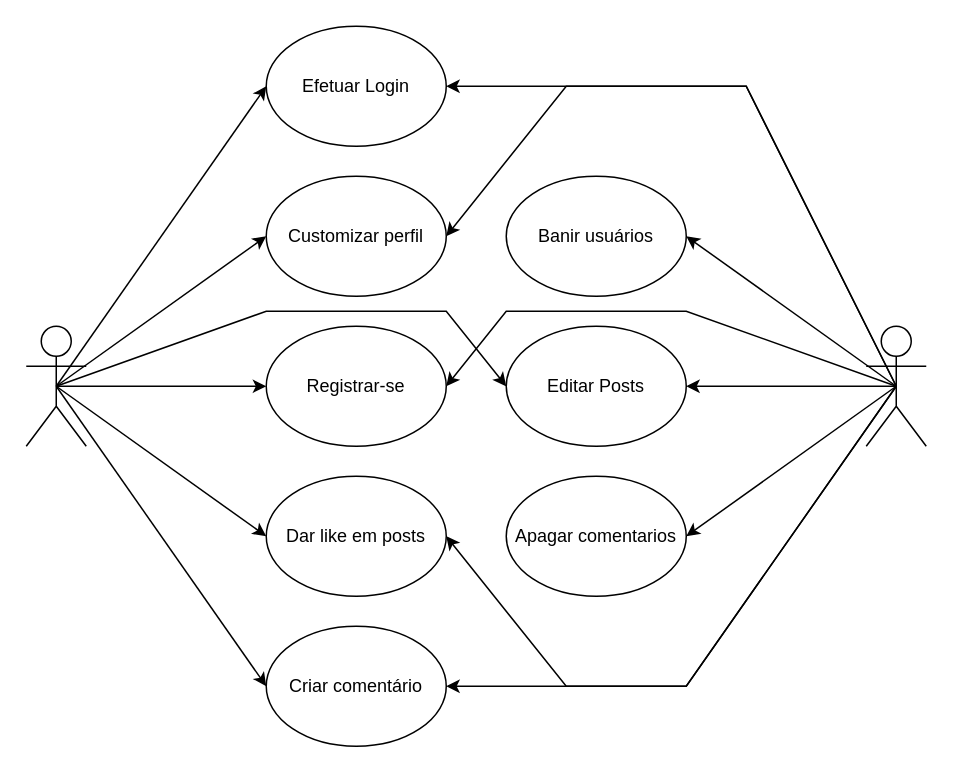
This 980x773 diagram has some shape labels left out. The shapes that lost their labels are listed below. From the top down, each one's centre as x and y in pixels, then its label:
At (x=55, y=385): "Usuário".
At (x=895, y=385): "Adiministrador".
